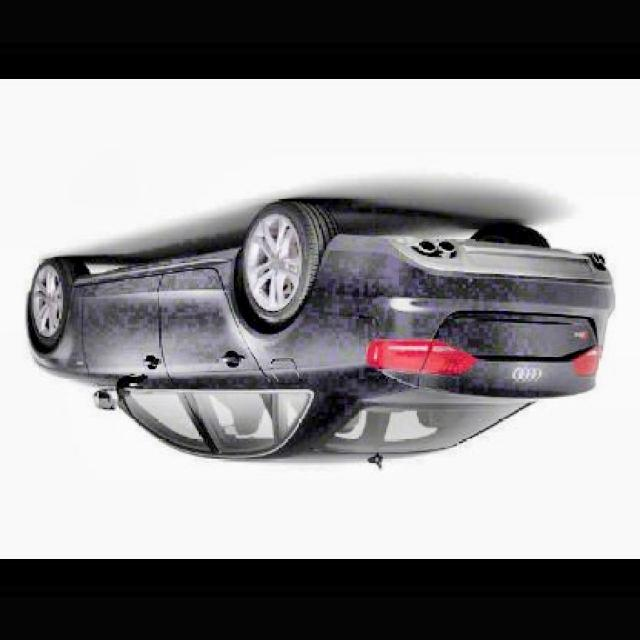black: (28, 205, 606, 476)
